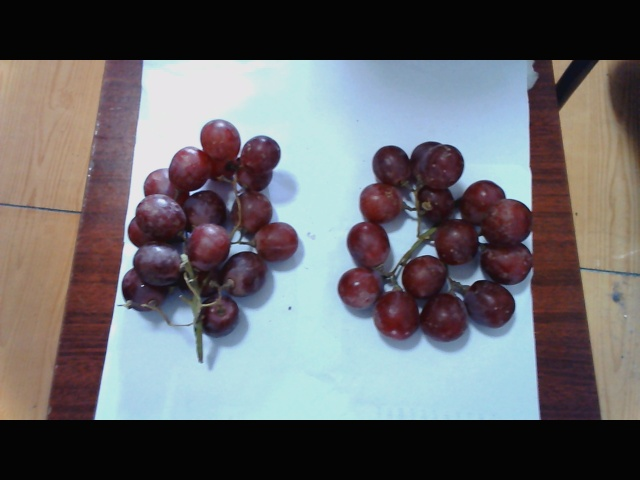grape: (343, 129, 535, 349), (131, 126, 289, 341)
